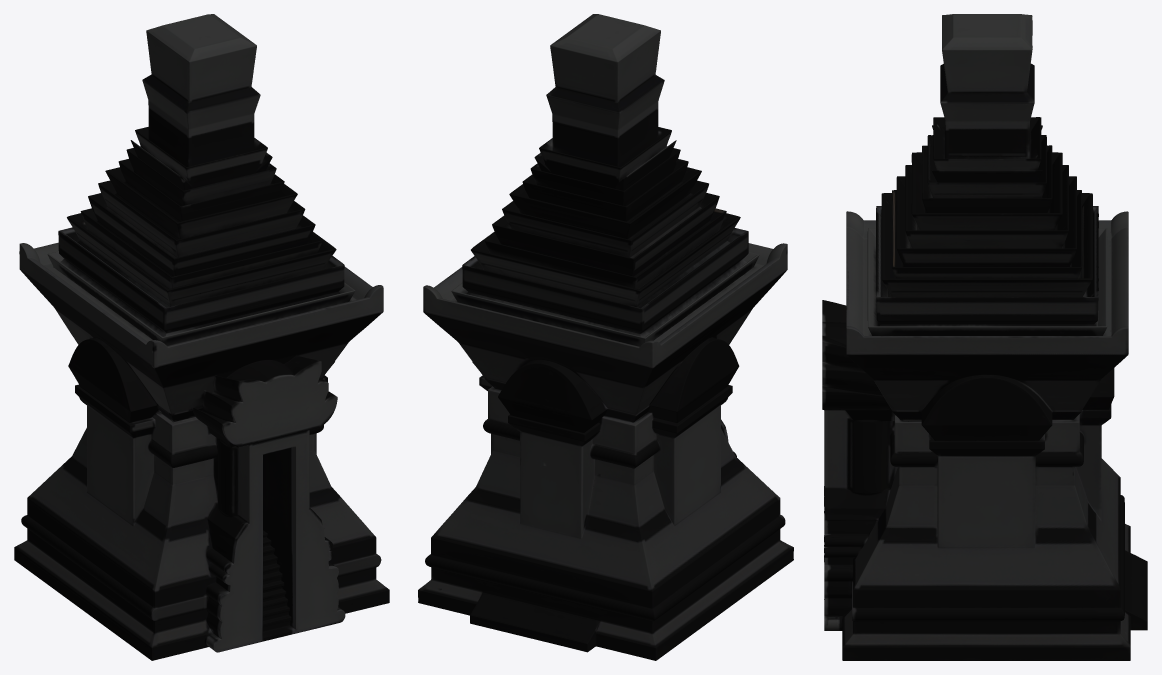
The model's file is candi_penataran.glb.
3 views of the same model, side by side, from view 1: azimuth 30°, elevation 25°; view 2: azimuth 150°, elevation 25°; view 3: azimuth 270°, elevation 25° (orthographic). The views are drawn at different scales.
Visible parts, largest first — view 1: node_0; view 2: node_0; view 3: node_0.
Part boxes in pixels (x1,y1,x2,y2): node_0: [14, 14, 389, 660]; node_0: [418, 14, 793, 660]; node_0: [822, 14, 1147, 660].
Size of the model in its own units: 0.4574 by 1.01 by 0.5186.
Materials: 1 (1 with a texture image).
